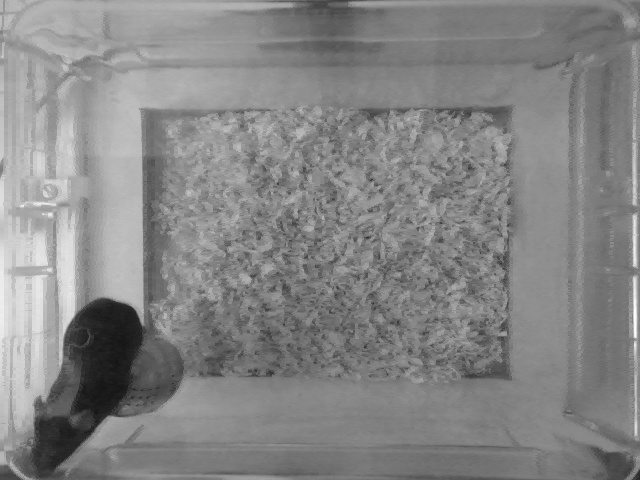mice: (19, 295, 144, 473)
